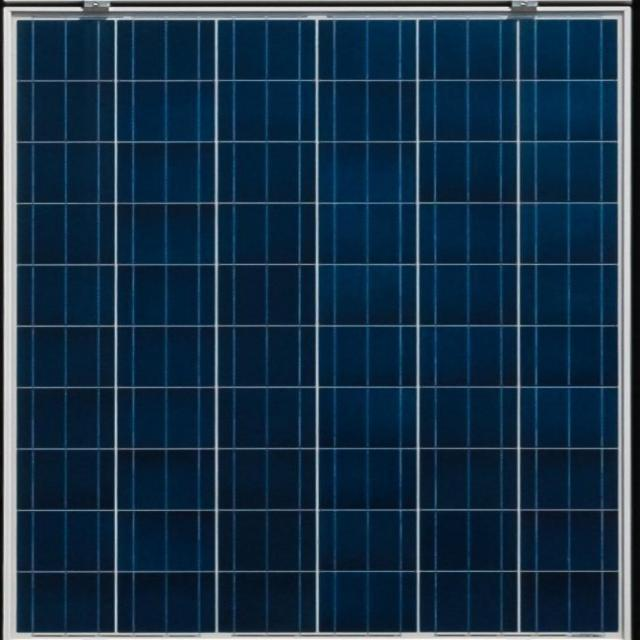no faulty: (3, 9, 623, 640)
